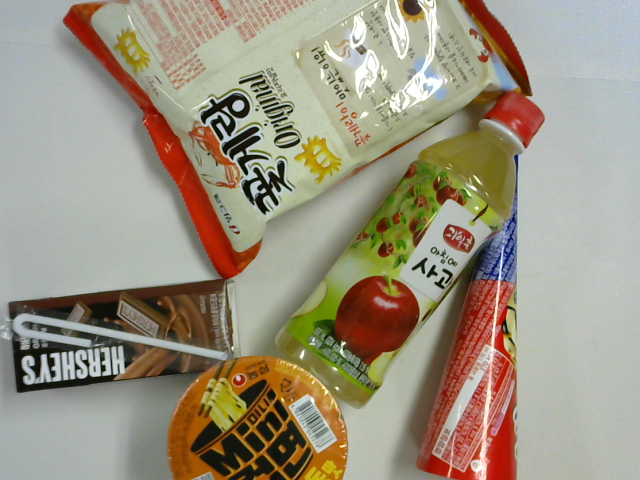Crabrang: (70, 1, 508, 260)
Hush_Choco_Drink: (11, 277, 242, 390)
Morning_Apple_500ml: (279, 84, 546, 412)
Udongmini: (170, 360, 349, 480)
World_Cone_Banila: (421, 146, 533, 480)
